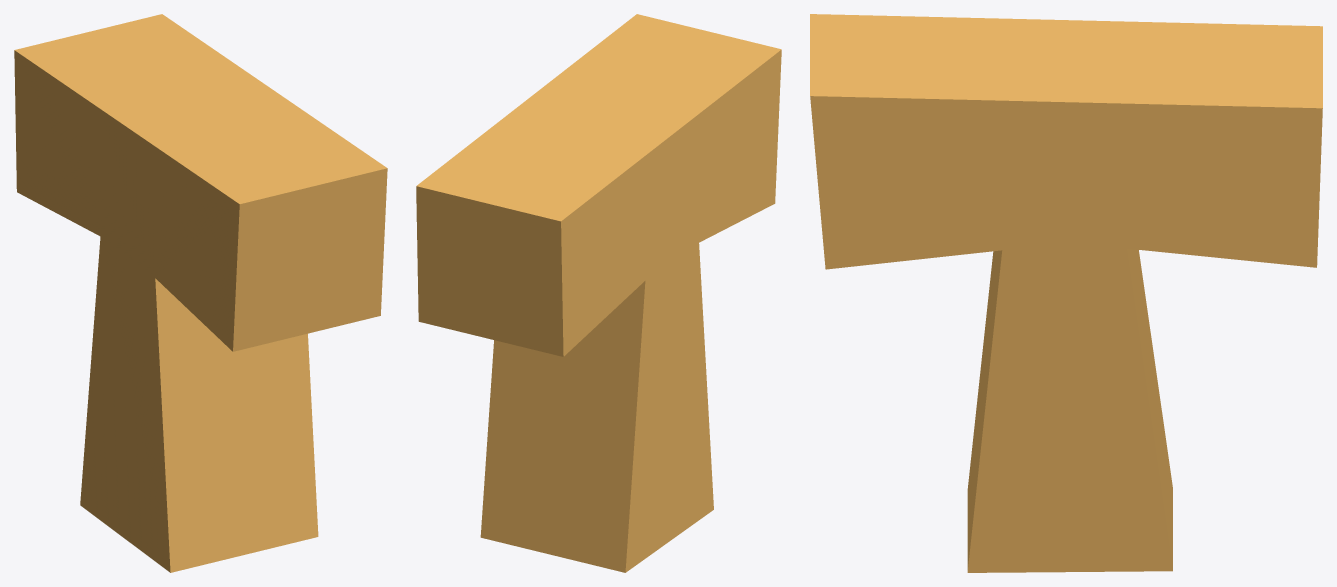
The model's file is LetterT.obj.
3 views of the same model, side by side, from view 1: azimuth 30°, elevation 25°; view 2: azimuth 150°, elevation 25°; view 3: azimuth 270°, elevation 25° (orthographic). The views are drawn at different scales.
Parts seen in each view (by area): view 1: Cube.006; view 2: Cube.006; view 3: Cube.006.
Boxes of the visible parts, x1,y1,x2,y2 form: Cube.006: (14,14,387,572); Cube.006: (416,14,781,572); Cube.006: (810,14,1322,572).
Bounding box in the file's own units: 1.77 × 4.8 × 4.67.
1 material, 1 textured.
